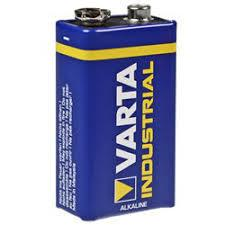9V: (54, 3, 177, 221)
